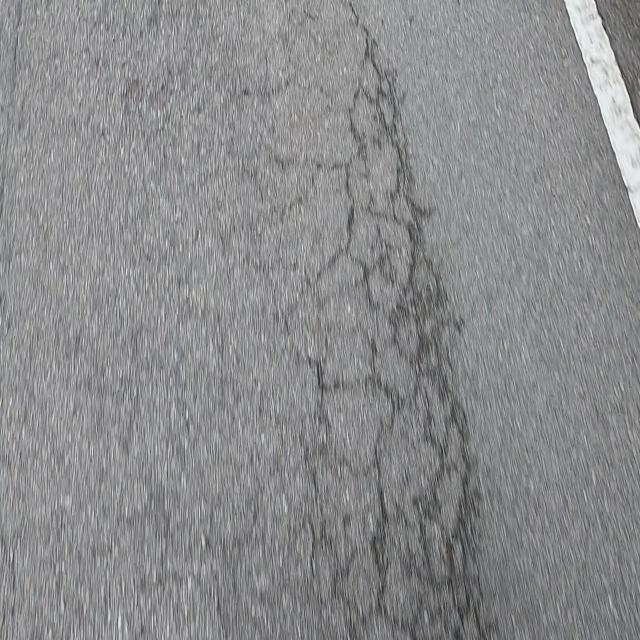Retak-Buaya: (285, 3, 484, 640)
